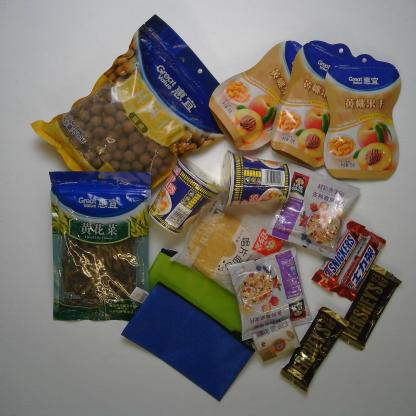Chocolate: (278, 305, 351, 395), (337, 262, 403, 352), (310, 218, 370, 293), (330, 230, 388, 302)
Dessert: (166, 192, 288, 302)
Dried Food: (28, 11, 234, 204), (44, 167, 152, 323)
Dried Fruit: (207, 37, 310, 152), (268, 40, 358, 170), (321, 52, 403, 182)
Instant Drink: (264, 161, 362, 262), (224, 245, 314, 342)
Instant Noodles: (146, 155, 225, 238), (217, 149, 293, 210)
Stationery: (119, 280, 258, 404), (142, 246, 253, 342)
Tissue: (250, 317, 303, 365)
